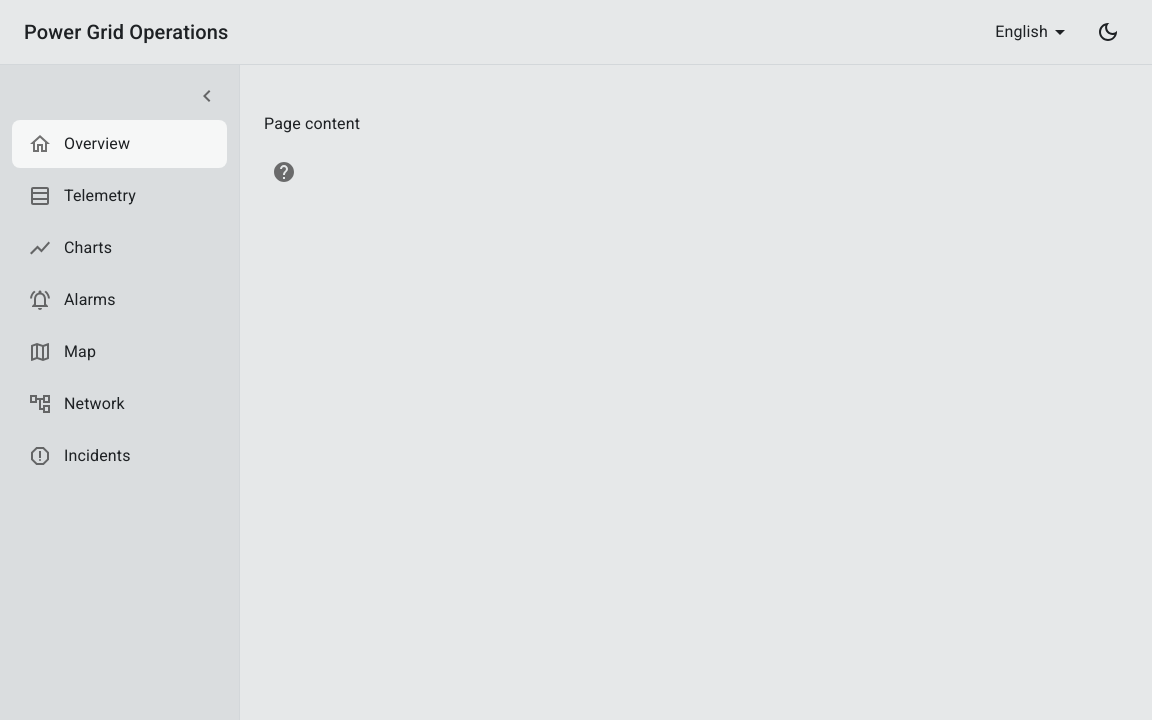
Layout › toggles the color scheme
This screenshot has width=1152, height=720.
Click the button named "Switch to dark mode": click(1108, 32) left=1088, top=12, right=1128, bottom=52
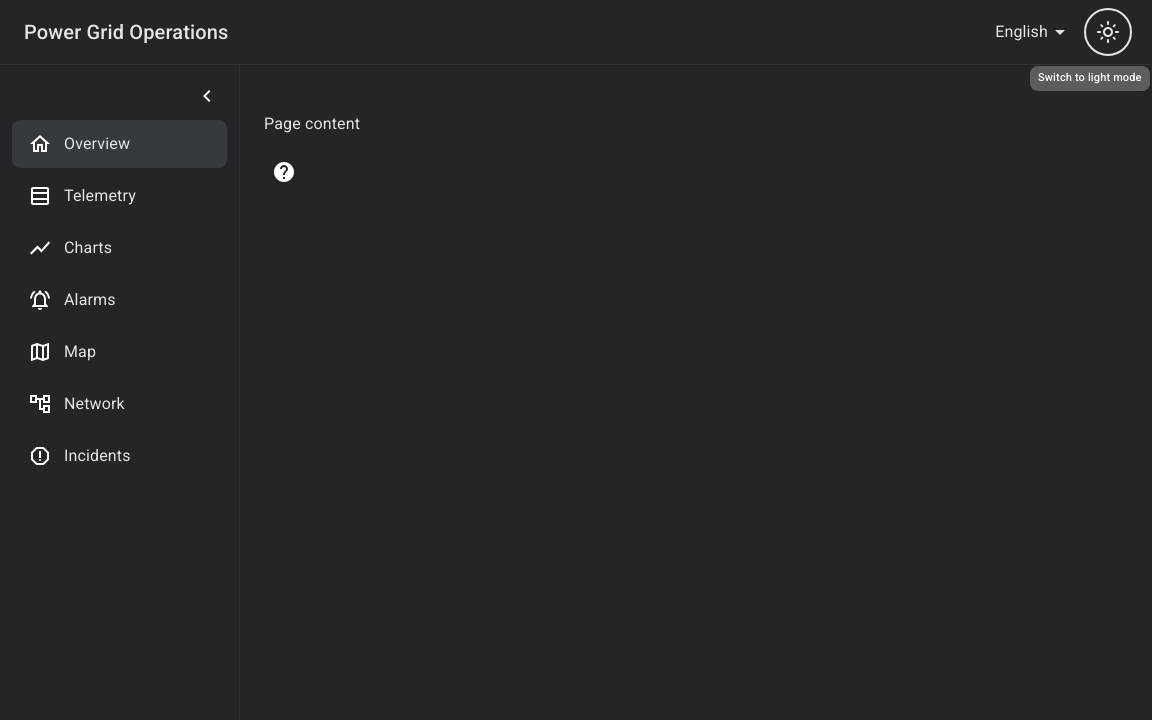
expect the button named "Switch to light mode" is shown: met, box left=1088, top=12, right=1128, bottom=52
